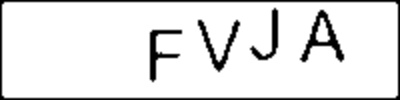A: (299, 5, 347, 64)
F: (145, 26, 184, 85)
J: (248, 6, 285, 66)
V: (194, 17, 242, 75)
